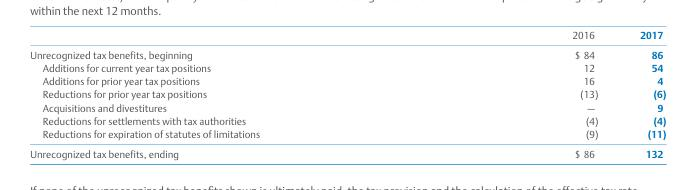table: (29, 28, 665, 159)
table column: (29, 28, 415, 159), (415, 28, 618, 159), (618, 28, 665, 159)
table column header: (29, 28, 665, 44)
table row: (29, 126, 665, 143), (29, 28, 665, 44), (29, 44, 665, 60), (29, 143, 665, 159), (29, 73, 665, 87), (29, 60, 665, 73), (29, 87, 665, 100), (29, 100, 665, 113), (29, 113, 665, 126)
